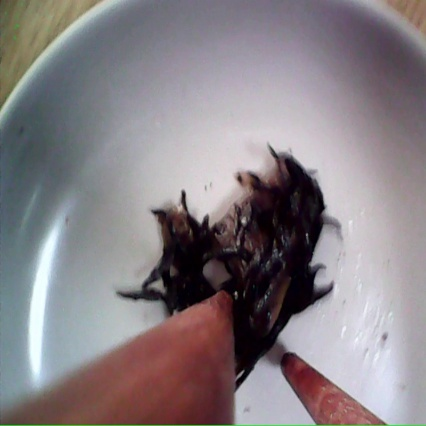black_hijiki: (150, 172, 345, 425)
